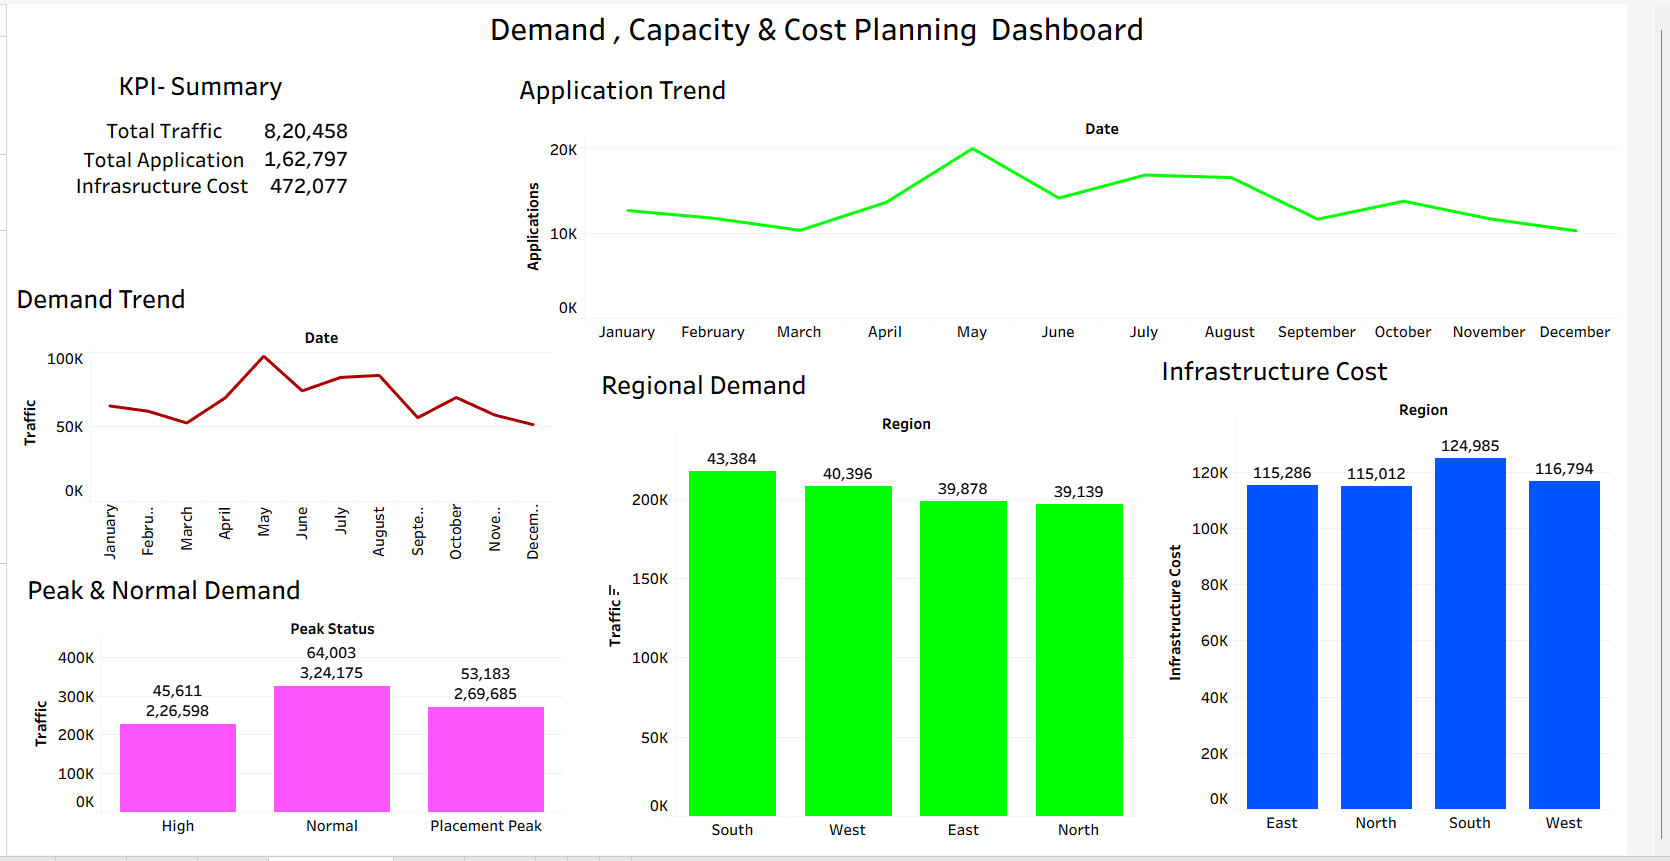

Layout of this report page (visuals, bound fields, positions):
{"tool":"tableau","page":{"name":"Dashboard 1","canvas":[1620,860],"ordinal":0},"visuals":[{"type":"title","box":[8,8,1604,49]},{"type":"text","box":[108,73,172,35]},{"type":"worksheet","title":"Sheet 2","mark":"Line","rows":["Applications"],"cols":["Date"],"box":[508,73,1104,275]},{"type":"text","box":[96,119,141,32]},{"type":"worksheet","title":"Sheet 5","mark":"Automatic","box":[245,122,143,112]},{"type":"text","box":[73,149,168,30]},{"type":"text","box":[65,175,180,30]},{"type":"worksheet","title":"Sheet 1","mark":"Automatic","rows":["Traffic"],"cols":["Date"],"box":[5,282,540,284]},{"type":"worksheet","title":"Sheet 6","mark":"Automatic","rows":["Infrastructure_Cost"],"cols":["Region"],"box":[1150,354,454,485]},{"type":"worksheet","title":"Sheet 4","mark":"Automatic","rows":["Traffic"],"cols":["Region"],"box":[590,368,540,478]},{"type":"worksheet","title":"Sheet 3","mark":"Bar","rows":["Traffic"],"cols":["Peak_Status"],"box":[16,573,540,284]}]}

Visuals, with their boxes in screenshot pixels (x1, y1, x2, y2), scaled from the page's 1620x860 canvas onto the 1670x861 screenshot:
title: rect(8, 8, 1662, 57)
text: rect(111, 73, 289, 108)
"Sheet 2" worksheet (Line marks): rect(524, 73, 1662, 348)
text: rect(99, 119, 244, 151)
"Sheet 5" worksheet: rect(253, 122, 400, 234)
text: rect(75, 149, 248, 179)
text: rect(67, 175, 253, 205)
"Sheet 1" worksheet: rect(5, 282, 562, 567)
"Sheet 6" worksheet: rect(1185, 354, 1654, 840)
"Sheet 4" worksheet: rect(608, 368, 1165, 847)
"Sheet 3" worksheet (Bar marks): rect(16, 574, 573, 858)
